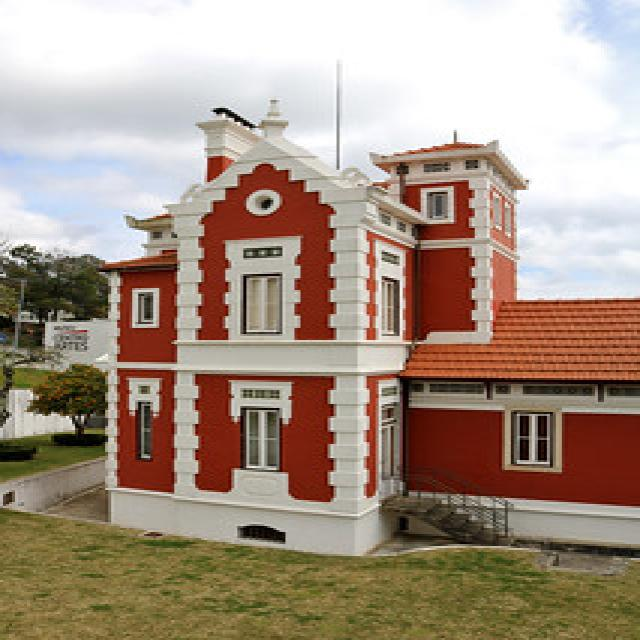building: (93, 102, 640, 560)
